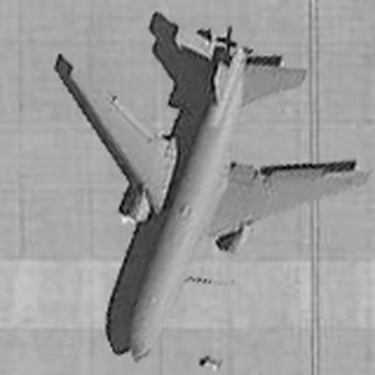airplane: (40, 6, 371, 369)
